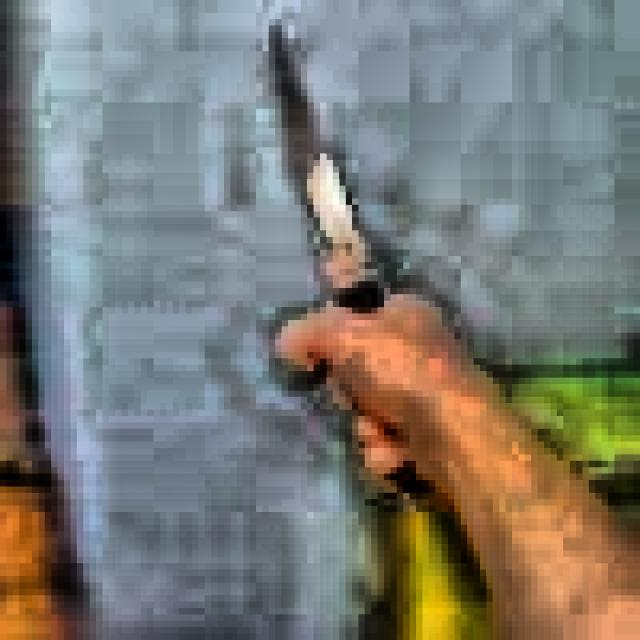knife: (271, 33, 432, 511)
